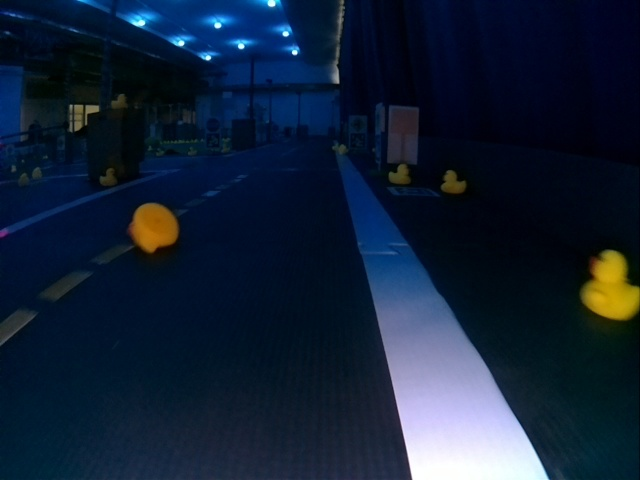Duckie: (581, 250, 638, 318), (128, 204, 178, 252), (441, 170, 466, 193), (389, 164, 410, 184), (99, 168, 117, 186), (111, 94, 126, 108), (18, 174, 29, 186), (33, 167, 42, 179), (155, 148, 165, 157), (339, 145, 348, 154), (188, 147, 197, 156)
Intersection sign: (350, 116, 367, 132)
QR code: (388, 188, 439, 196), (350, 133, 367, 150), (207, 134, 220, 148)
Stop sign: (206, 117, 220, 132)
